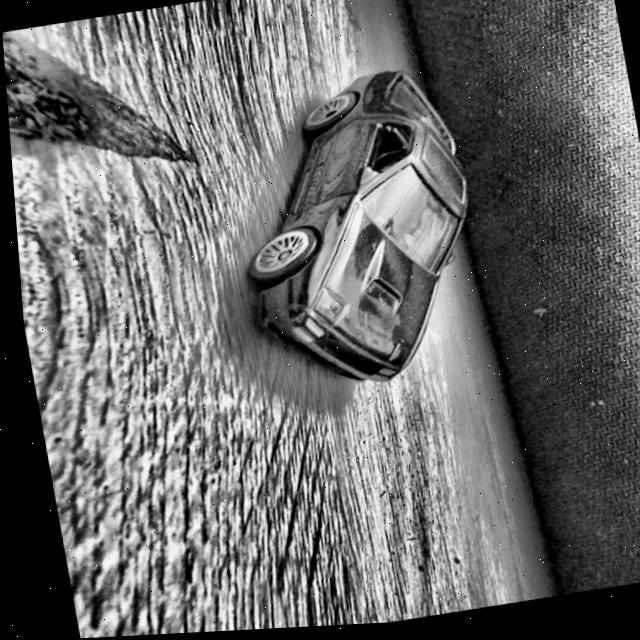car: (211, 64, 495, 404)
